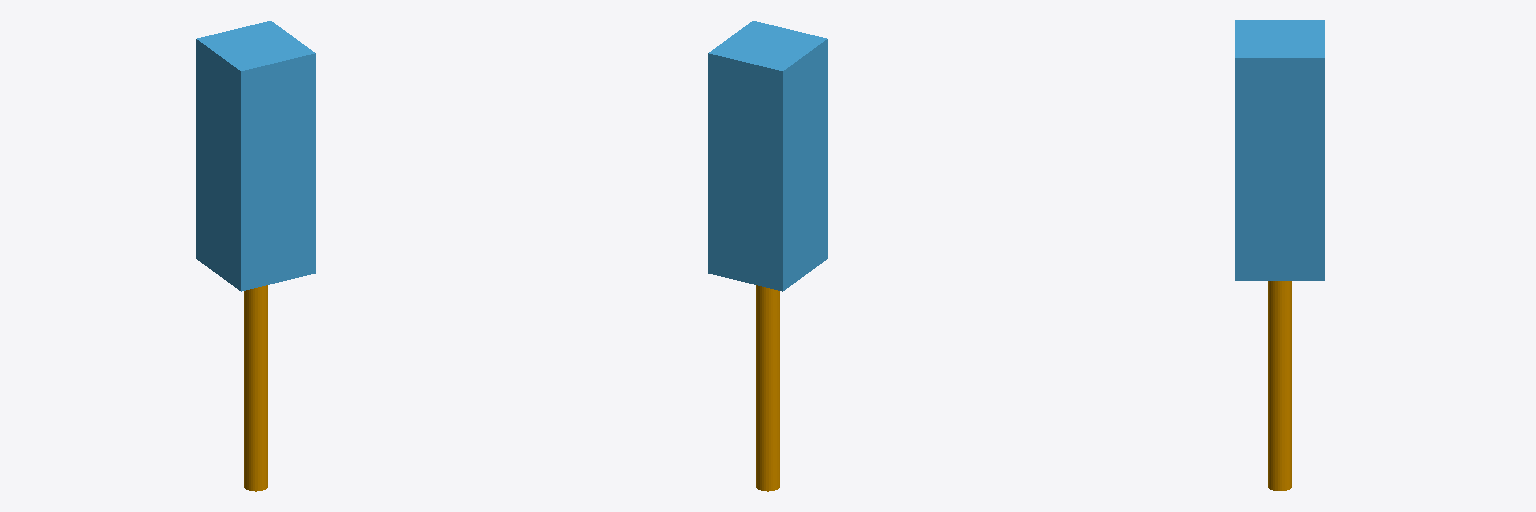
robot.urdf — screwdriver_on_the_table:
<?xml version="1.0" ?>
<!-- this is the one without any virtual joints and links -->
<robot name="screwdriver_on_the_table">
<link name="screwdriver_stick">
    <inertial>
      <mass value="0.05"/>
      <!-- <friction value="1.0"/> -->
      <inertia ixx="0.000041979" ixy="0.0" ixz="0.0" iyy="0.000041979" iyz="0.0" izz="0.000000625"/>
    </inertial>
    <visual>
        <origin rpy="0 0 0" xyz="0 0 0.05"/>
        <geometry>
            <cylinder radius="0.005" length="0.1"/>
        </geometry>
        <!-- <material name="White">
	 	    <color rgba="0.9 0.9 0.9 0.5"/>
        </material> -->
    </visual>
    <collision>
        <origin rpy="0 0 0" xyz="0 0 0.05"/>
        <geometry>
            <cylinder radius="0.005" length="0.1"/>
        </geometry>
    </collision>
</link>

<gazebo reference="screwdriver_body">
    <mu1>0.726325</mu1>
    <mu2>1.104210</mu2>
    <!-- Isaac Sim maps mu1/mu2 to PhysX static/dynamic friction during URDF→USD import -->
</gazebo>

<joint name="screwdriver_stick_body_joint" type="fixed">
    <parent link="screwdriver_stick"/>
    <child link="screwdriver_body"/>
    <origin rpy="0 0 0" xyz="0 0 0.1"/> 
    <axis xyz="0 0 1"/>
</joint>

<link name="screwdriver_body">
    <inertial>
      <mass value="0.074398"/>
      <inertia ixx="0.000070409" ixy="0.0" ixz="0.0" iyy="0.000069824" iyz="0.0" izz="0.000016236"/>
    </inertial>
    <visual>
        <origin rpy="0 0 0" xyz="0 0 0.05"/>
        <geometry>
            <box size="0.035527 0.036831 0.100000"/>
        </geometry>
        <!-- <material name="Red1">
	 	    <color rgba="0.9 0. 0. 0.5"/>
        </material> -->
    </visual>
    <collision>
        <origin rpy="0 0 0" xyz="0 0 0.05"/>
        <geometry>
            <box size="0.035527 0.036831 0.100000"/>
        </geometry>
    </collision>
</link>

<!-- <joint name="screwdriver_body_cap_joint" type="revolute">
    <parent link="screwdriver_body"/>
    <child link="screwdriver_cap"/>
    <origin rpy="0 0 0" xyz="0 0 0.1"/> 
    <axis xyz="0 0 1"/>
</joint>

<link name="screwdriver_cap">
    <inertial>
      <mass value="0.005"/>
      <inertia ixx="0.00001" ixy="0.0" ixz="0.0" iyy="0.000005" iyz="0.0" izz="0.000005"/>
    </inertial>
    <visual>
        <origin rpy="0 0 0" xyz="0 0 0.0006"/>
        <geometry>
            <cylinder radius="0.02" length="0.001"/>
        </geometry>
        <material name="Yellow">
	 	    <color rgba="0.9 0.9 0. 1.0"/>
        </material>
    </visual>
    <collision>
        <origin rpy="0 0 0" xyz="0 0 0.0005"/>
        <geometry>
            <cylinder radius="0.02" length="0.001"/>
        </geometry>
    </collision>
</link> -->

</robot>

--- Facts derived from the render (not from the file) ---
Views: 3 orthographic renders of the robot side by side, from view 1: azimuth 30°, elevation 25°; view 2: azimuth 150°, elevation 25°; view 3: azimuth 270°, elevation 25°.
Robot: screwdriver_on_the_table — 2 links, 1 joints (1 fixed); root link screwdriver_stick; default pose: every joint at zero.
Links seen in each view (by area): view 1: screwdriver_body, screwdriver_stick; view 2: screwdriver_body, screwdriver_stick; view 3: screwdriver_body, screwdriver_stick.
Boxes of the visible links, x1,y1,x2,y2 form: screwdriver_body: (196, 21, 315, 291); screwdriver_stick: (244, 285, 267, 491); screwdriver_body: (708, 21, 827, 291); screwdriver_stick: (756, 285, 779, 491); screwdriver_body: (1235, 20, 1324, 280); screwdriver_stick: (1268, 281, 1291, 490).
Size in the robot's own frame: 0.0355 by 0.0368 by 0.2 metres.
Geometry: primitives only (box / cylinder / sphere), no mesh files.
